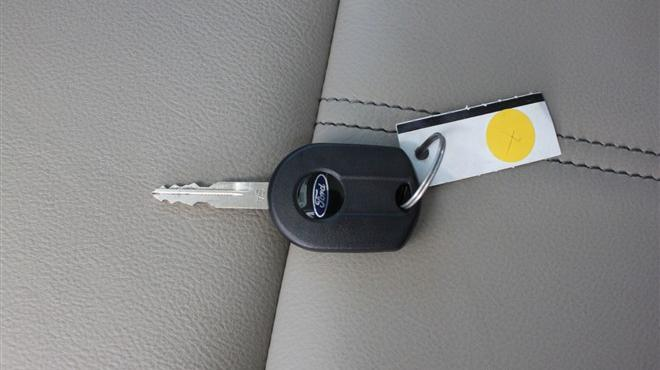key: (144, 134, 431, 269)
